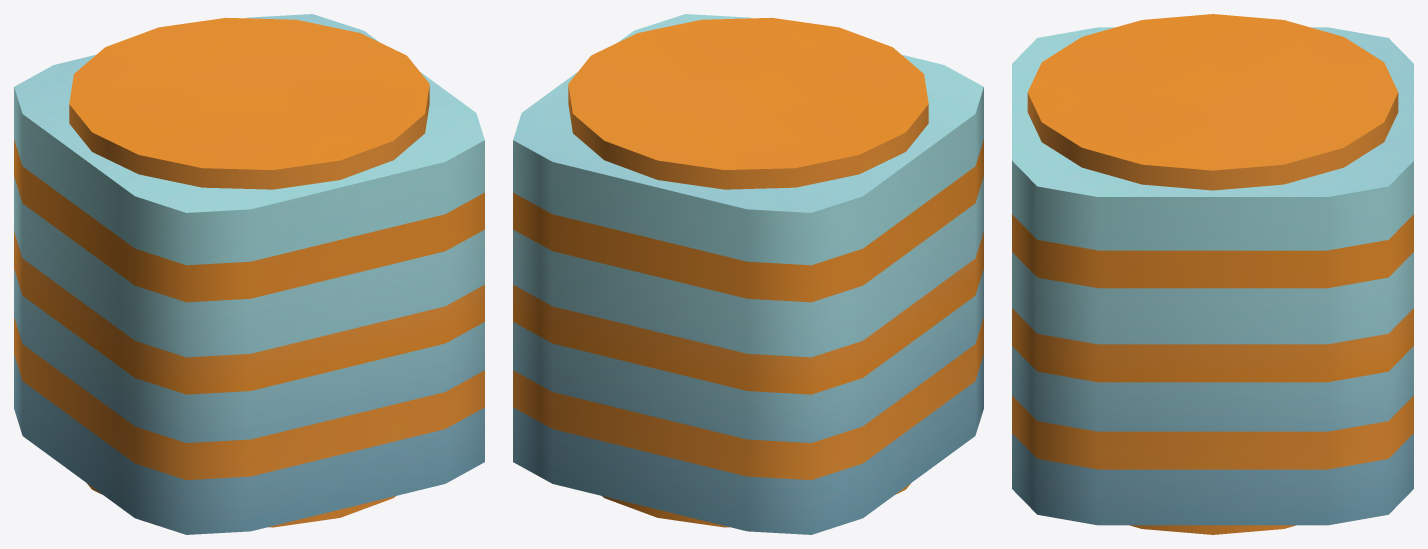
The model's file is Fuel 3.fbx.
3 views of the same model, side by side, from view 1: azimuth 30°, elevation 25°; view 2: azimuth 150°, elevation 25°; view 3: azimuth 270°, elevation 25° (orthographic).
Visible parts, largest first — view 1: Block 1x1.003; view 2: Block 1x1.003; view 3: Block 1x1.003.
Part boxes in pixels (bbox=[...]): Block 1x1.003: bbox=[14, 14, 484, 534]; Block 1x1.003: bbox=[513, 14, 983, 534]; Block 1x1.003: bbox=[1012, 14, 1413, 534].
Bounding box in the file's own units: 100 × 100 × 100.
